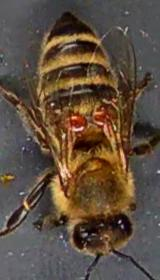varroa_mite: (92, 105, 118, 130), (64, 108, 88, 134)
